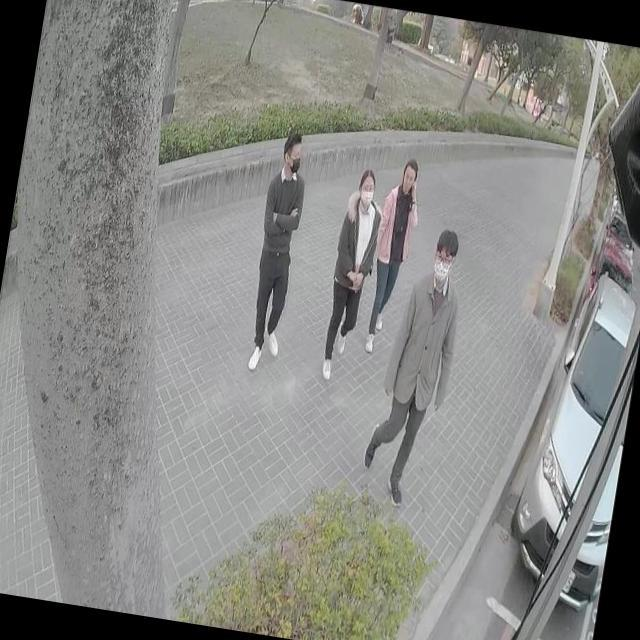person: (356, 219, 472, 512), (240, 125, 314, 374), (312, 160, 390, 388), (358, 151, 430, 361)
